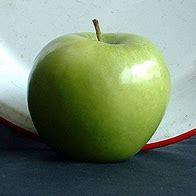apple: (28, 25, 169, 166)
